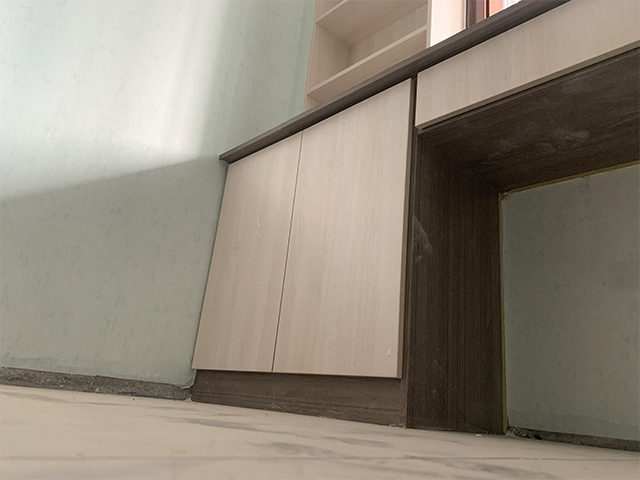table: (187, 1, 639, 438)
